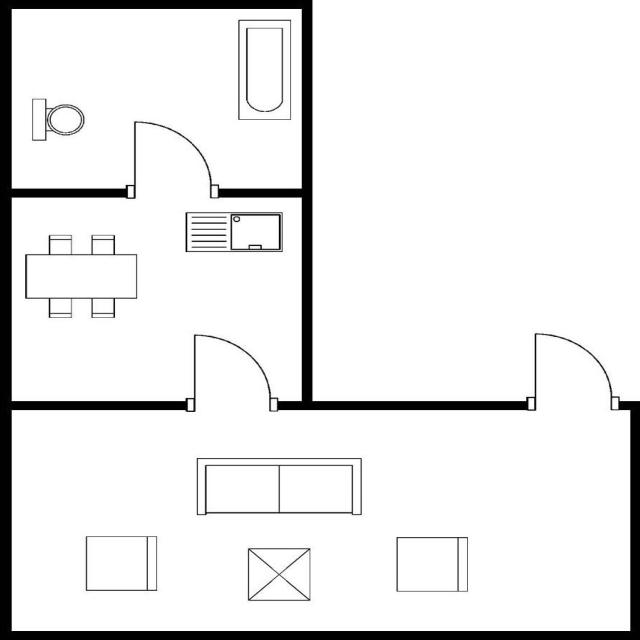coffee_table: (244, 544, 313, 602)
dining_table: (22, 232, 140, 322)
large_sink: (28, 95, 86, 143)
large_sofa: (192, 456, 364, 518)
sink: (183, 207, 287, 255)
small_sofa: (81, 530, 160, 594), (392, 532, 471, 595)
tub: (234, 15, 296, 126)
